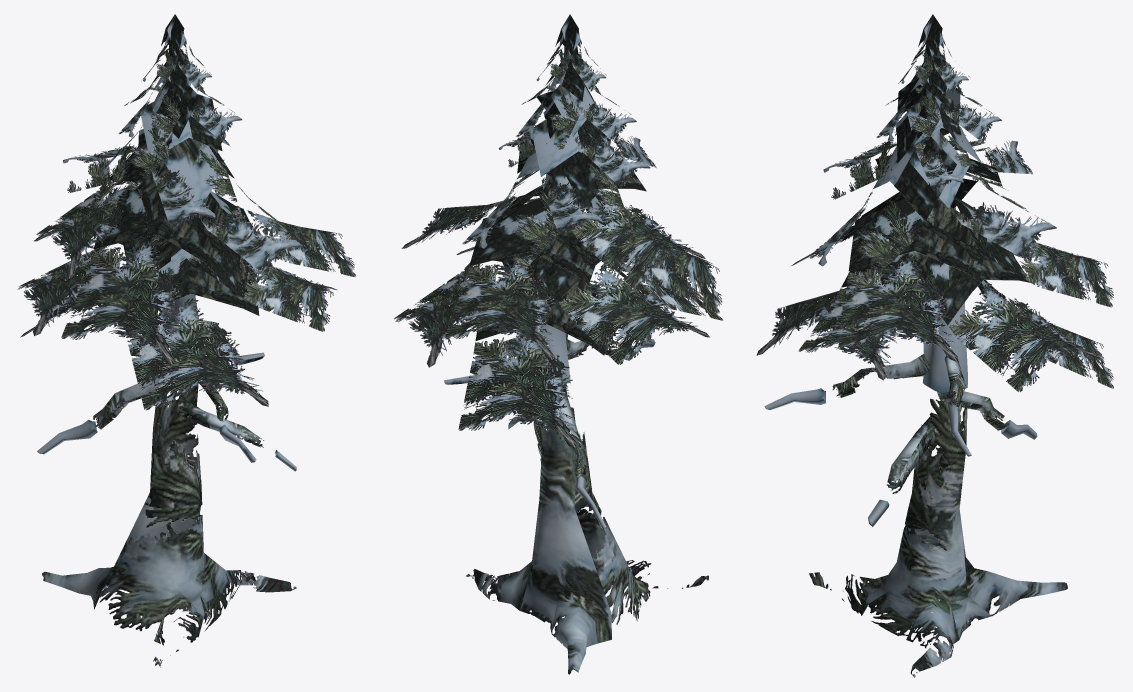
File: Tree_Pine_2.FBX
3 views of the same model, side by side, from view 1: azimuth 30°, elevation 25°; view 2: azimuth 150°, elevation 25°; view 3: azimuth 270°, elevation 25° (orthographic). The views are drawn at different scales.
Visible parts, largest first — view 1: polySurface246; view 2: polySurface246; view 3: polySurface246.
Part boxes in pixels (x1=…): polySurface246: x1=17, y1=14, x2=356, y2=667; polySurface246: x1=394, y1=14, x2=723, y2=674; polySurface246: x1=756, y1=14, x2=1113, y2=677.
Size of the model in its own units: 0.7342 by 1.4 by 0.7592.
